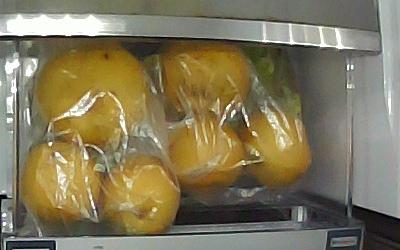pear_vinyl: (36, 48, 144, 140), (23, 143, 102, 220), (105, 156, 180, 236), (163, 44, 247, 107), (242, 113, 312, 188), (168, 118, 242, 185)
